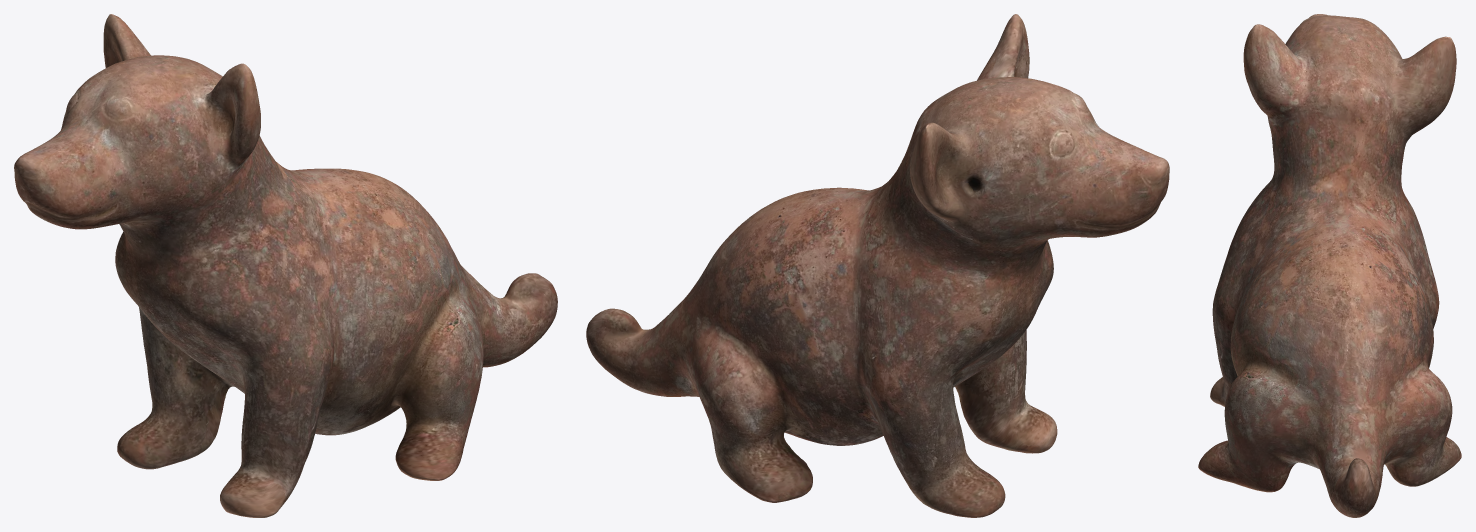
Rendered from preview.glb.
3 views of the same model, side by side, from view 1: azimuth 30°, elevation 25°; view 2: azimuth 150°, elevation 25°; view 3: azimuth 270°, elevation 25° (orthographic). The views are drawn at different scales.
Parts seen in each view (by area): view 1: Object_2; view 2: Object_2; view 3: Object_2.
Part boxes in pixels (x1=…): Object_2: x1=14, y1=14, x2=557, y2=517; Object_2: x1=586, y1=14, x2=1169, y2=517; Object_2: x1=1198, y1=14, x2=1461, y2=517.
Size of the model in its own units: 0.4656 by 0.349 by 0.2194.
Materials: 1 (1 with a texture image).
